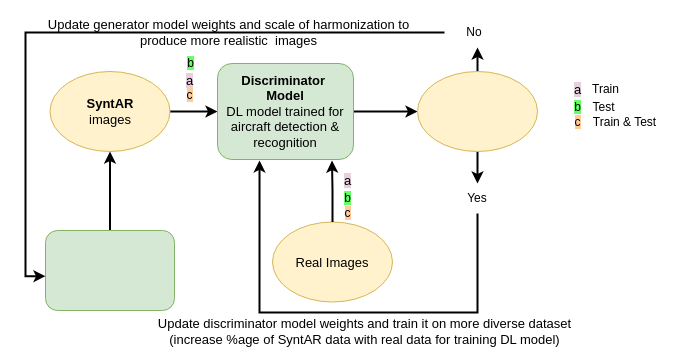
The diagram is 681 pixels wide and 364 high, and some of its shapes have lost their labels. The shapes that lost their labels are listed below. From the top down, each one's box as (x1, y1, x2, y2) in pixels, then its label:
(416, 70, 538, 152): Aircraft Classification & Recognition
(44, 230, 174, 310): Generator Model (generate satellite images with synthetic aircraft images)
